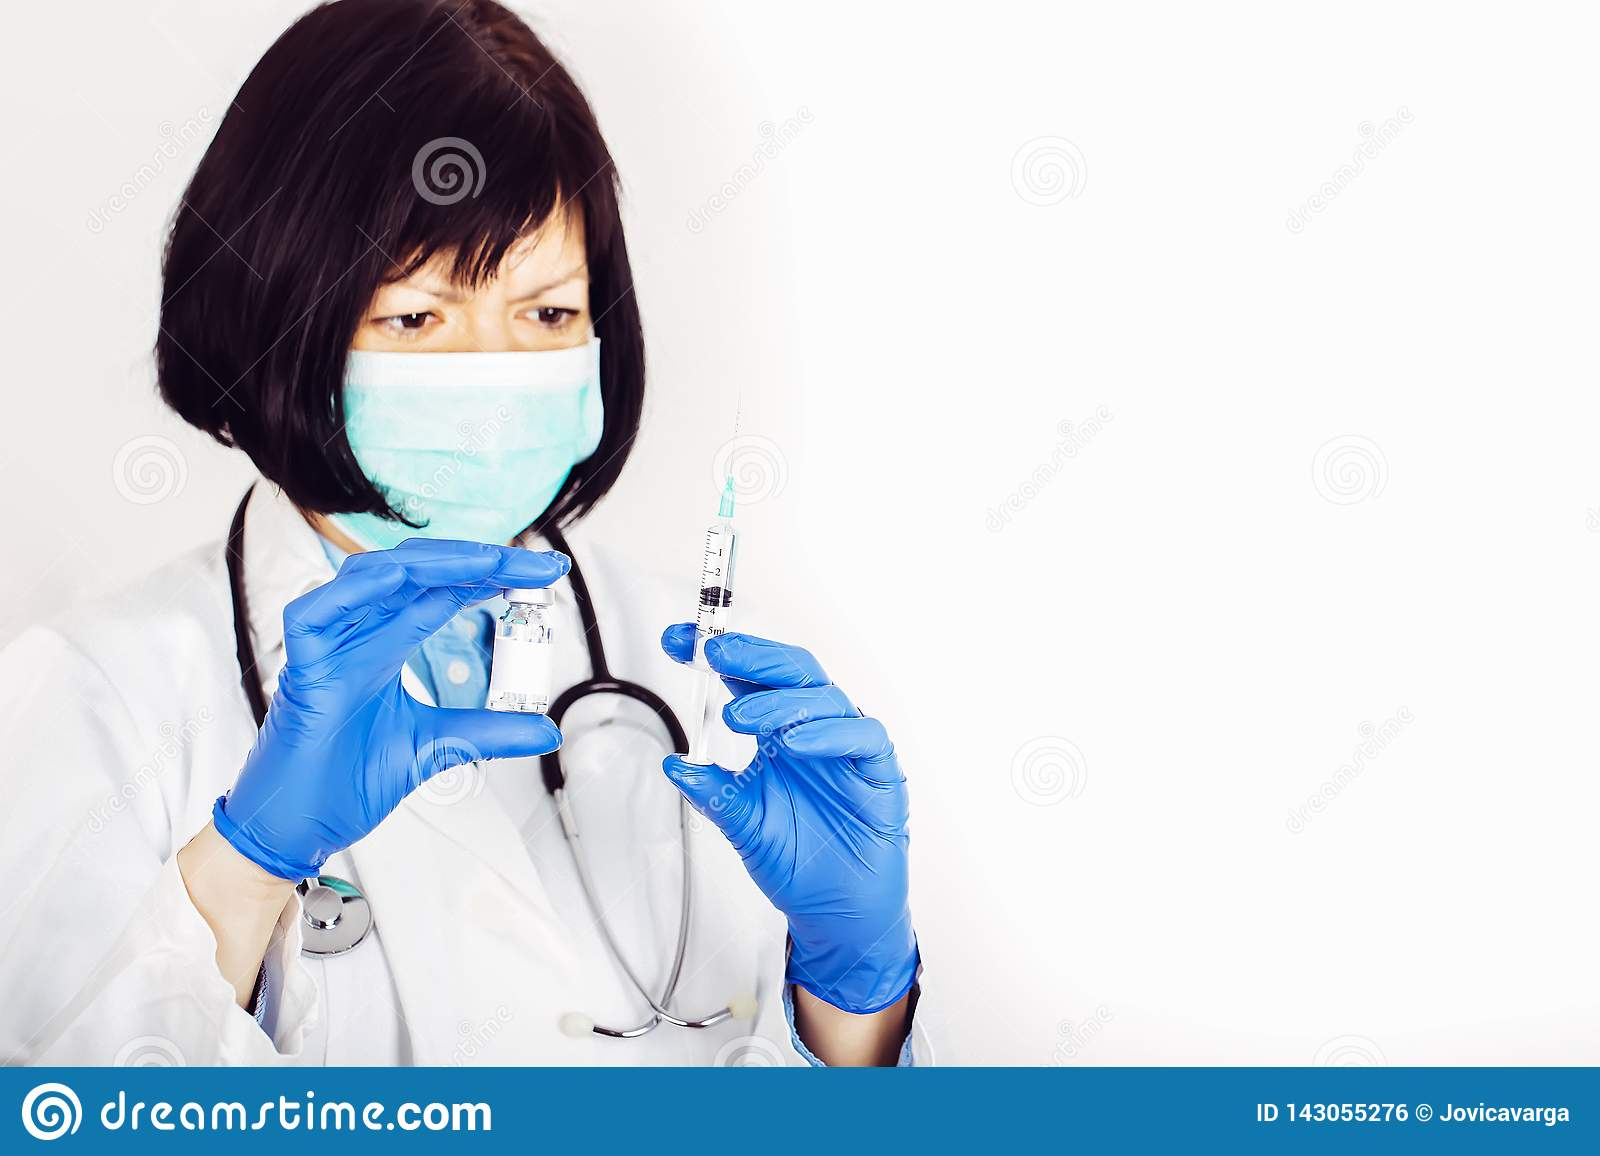mask: (313, 338, 610, 565)
